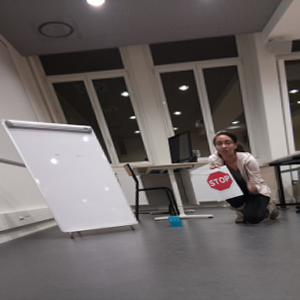stop: (206, 171, 234, 192)
